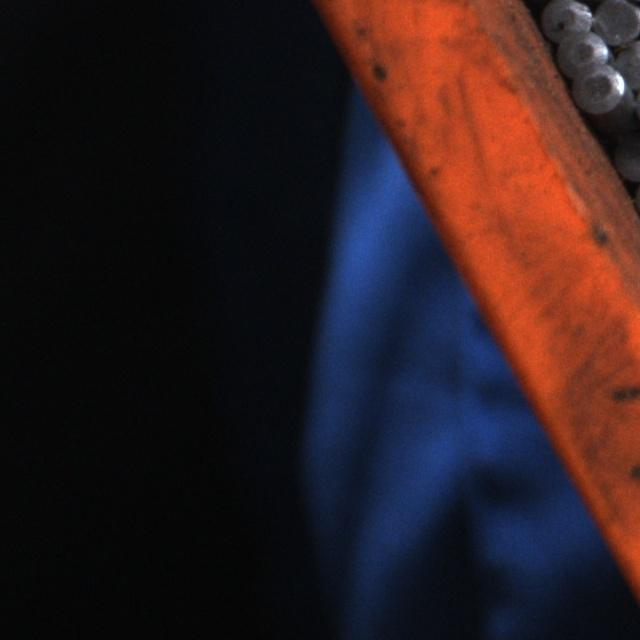tool: (570, 62, 626, 116), (555, 24, 609, 73), (541, 0, 593, 42), (592, 0, 640, 44), (610, 130, 640, 180), (617, 36, 640, 86)
